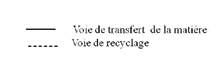texte: (108, 15, 145, 43), (93, 39, 149, 49), (72, 29, 89, 57), (73, 25, 105, 33), (150, 25, 171, 33), (176, 28, 207, 33), (26, 28, 56, 30)
